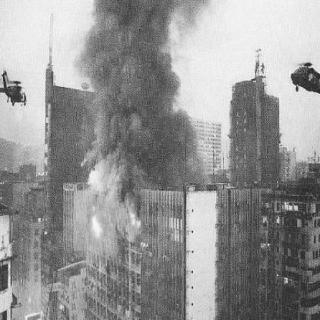other: (278, 198, 298, 215), (298, 66, 315, 83)
